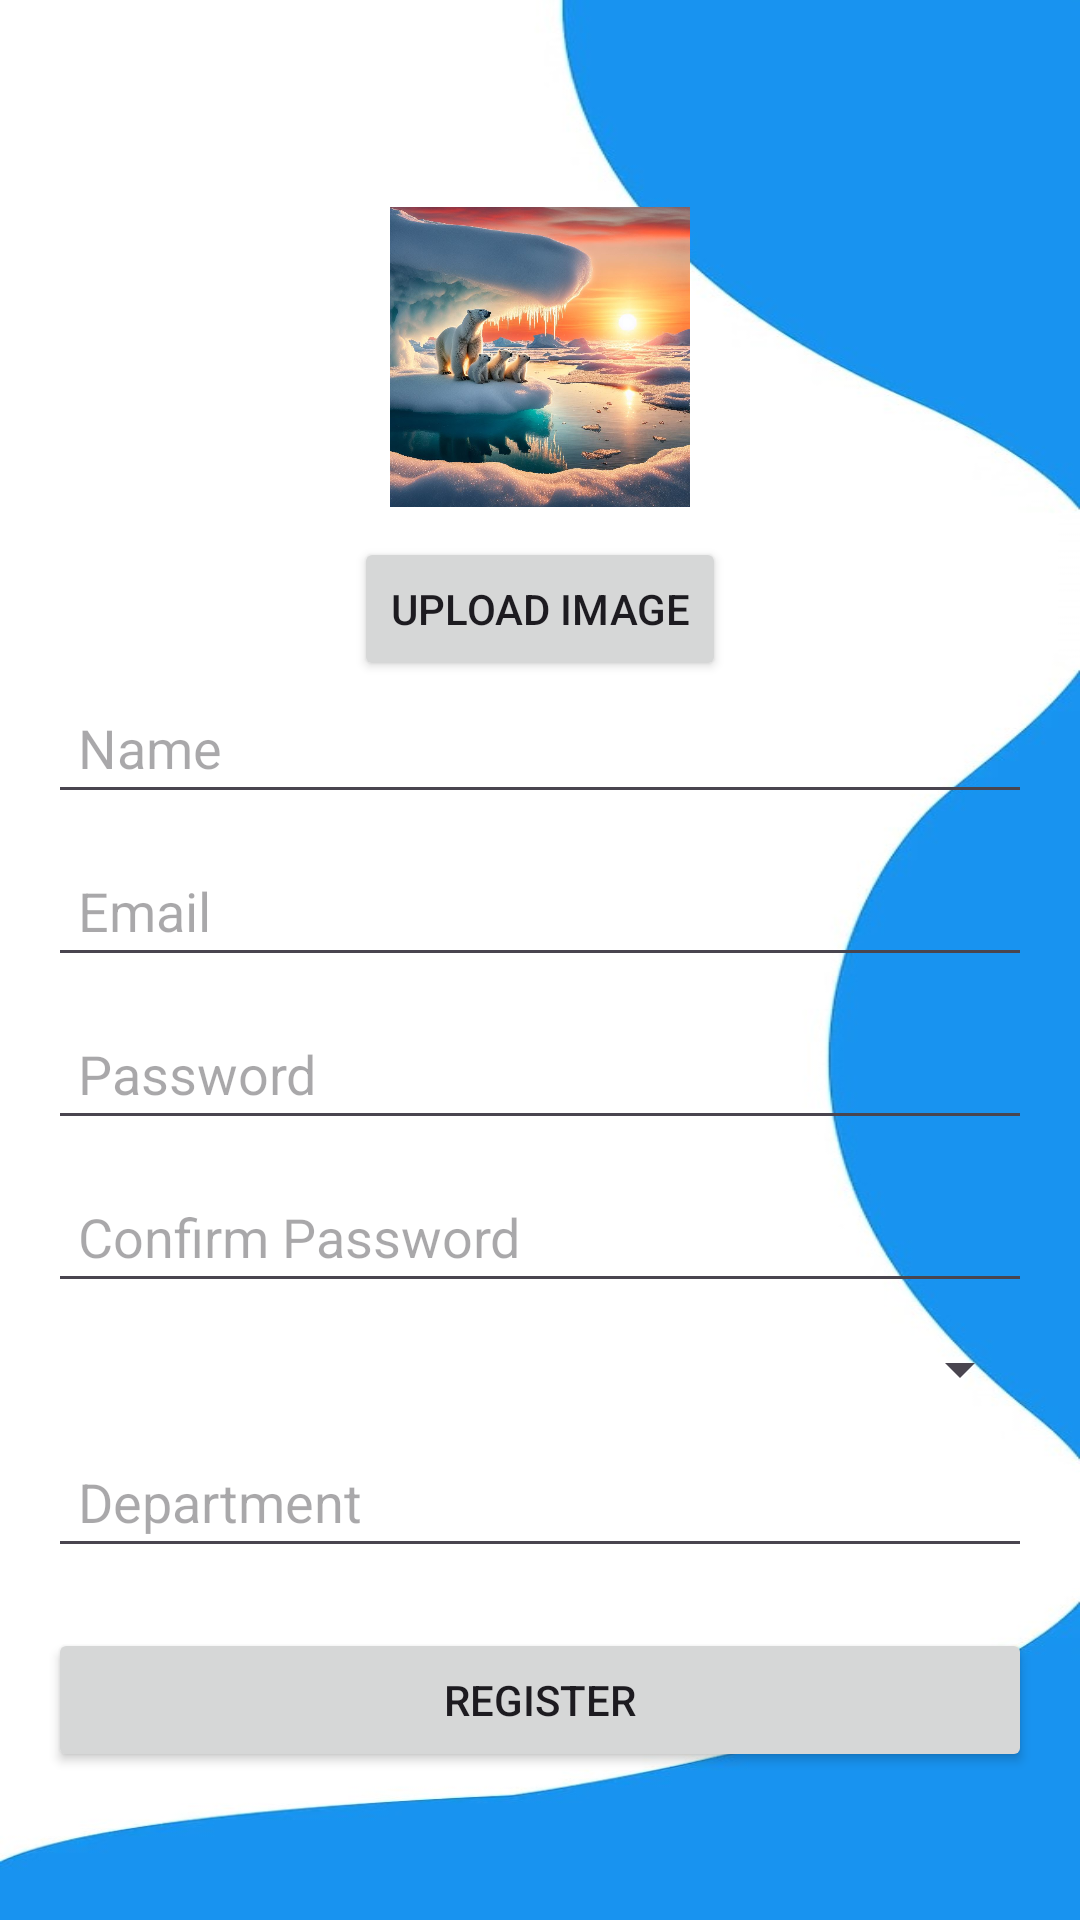

Screen size 1080×1920. Icon name, then its center in pixels as point (x, y):
Profile Image: point (540, 357)
